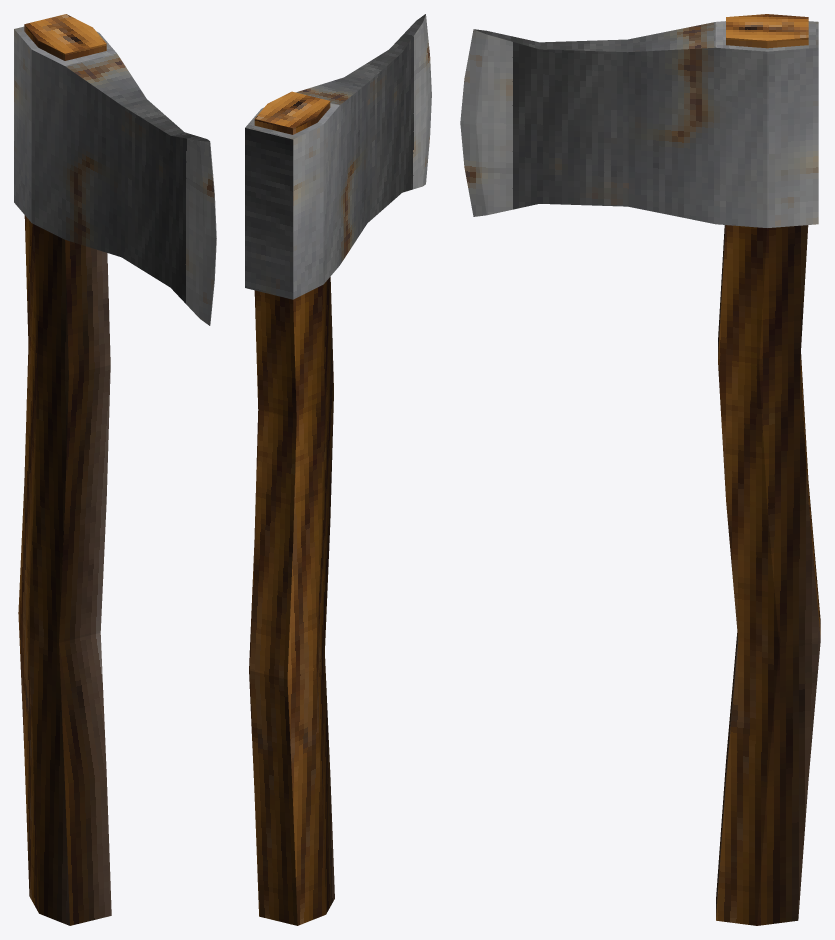
File: woodcutter_axe.glb
3 views of the same model, side by side, from view 1: azimuth 30°, elevation 25°; view 2: azimuth 150°, elevation 25°; view 3: azimuth 270°, elevation 25° (orthographic). The views are drawn at different scales.
Visible parts, largest first — view 1: woodcutter_axe-col; view 2: woodcutter_axe-col; view 3: woodcutter_axe-col.
Boxes of the visible parts, x1,y1,x2,y2 form: woodcutter_axe-col: (14,14,216,925); woodcutter_axe-col: (245,14,431,925); woodcutter_axe-col: (460,14,820,925).
Bounding box in the file's own units: 0.3924 × 4.8 × 1.78.
1 material, 1 textured.
